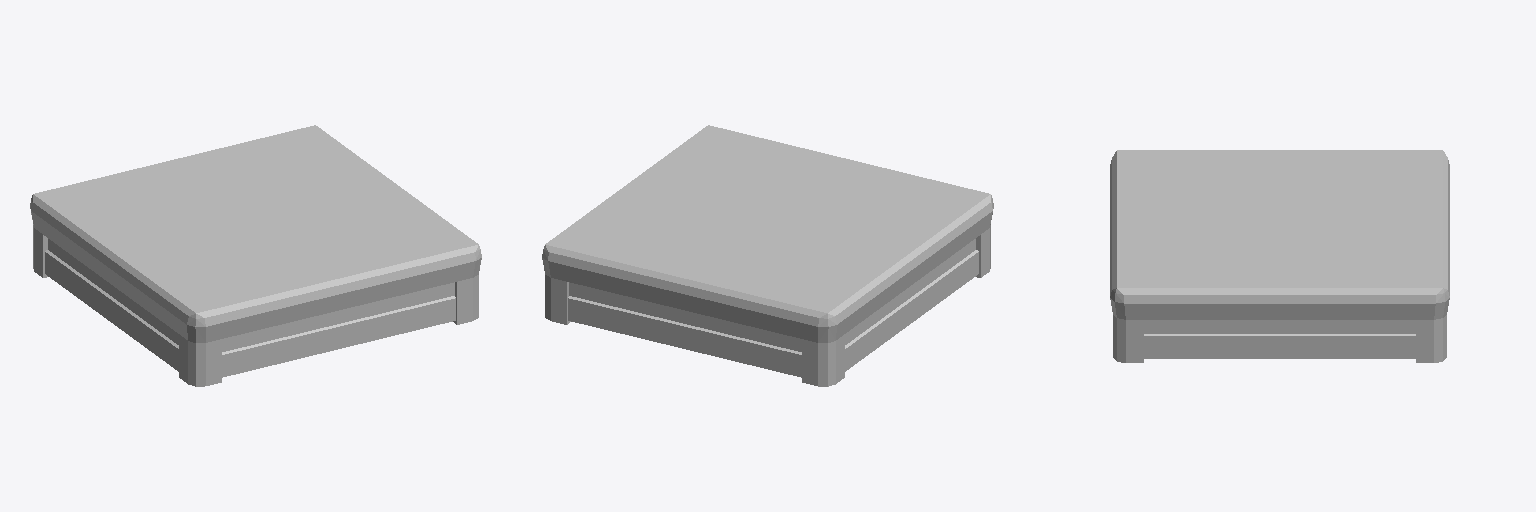
The model's file is stg600_obj_footholdC.obj.
3 renders of one model, left to right at view 1: azimuth 30°, elevation 25°; view 2: azimuth 150°, elevation 25°; view 3: azimuth 270°, elevation 25°, orthographic.
Visible parts, largest first — view 1: polygon3, polygon1, polygon4, polygon2; view 2: polygon3, polygon1, polygon4, polygon2; view 3: polygon1, polygon3, polygon4, polygon2.
Part boxes in pixels (x1,y1,x2,y2): polygon3: (30, 125, 481, 386); polygon1: (71, 141, 440, 297); polygon4: (45, 250, 455, 377); polygon2: (48, 239, 454, 351); polygon3: (542, 125, 993, 386); polygon1: (583, 141, 952, 297); polygon4: (568, 250, 978, 377); polygon2: (569, 239, 975, 351); polygon1: (1144, 162, 1415, 276); polygon3: (1110, 150, 1449, 362); polygon4: (1144, 334, 1415, 358); polygon2: (1144, 320, 1415, 333).
Bounding box in the file's own units: 29.39 × 7.02 × 29.39.